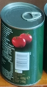tomatoes: (1, 2, 45, 86)
